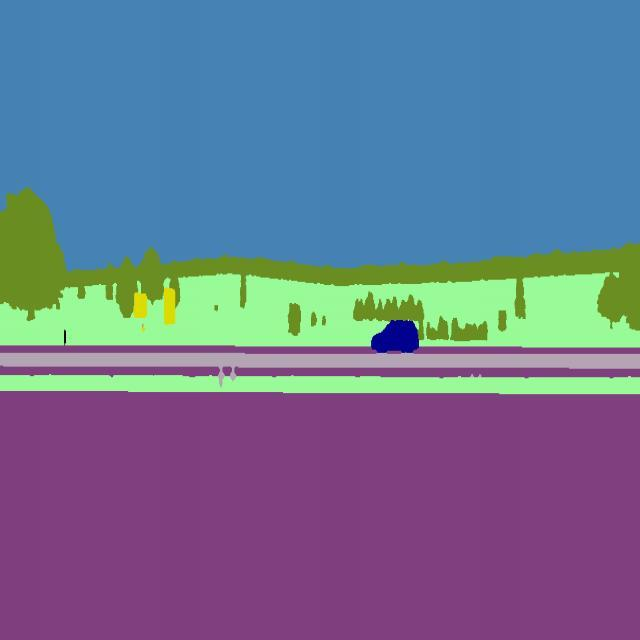safe: (368, 312, 423, 356)
